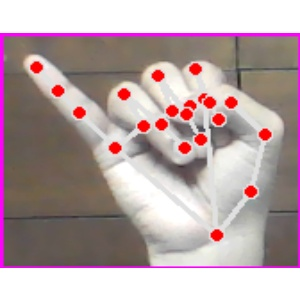J: (1, 34, 300, 268)
